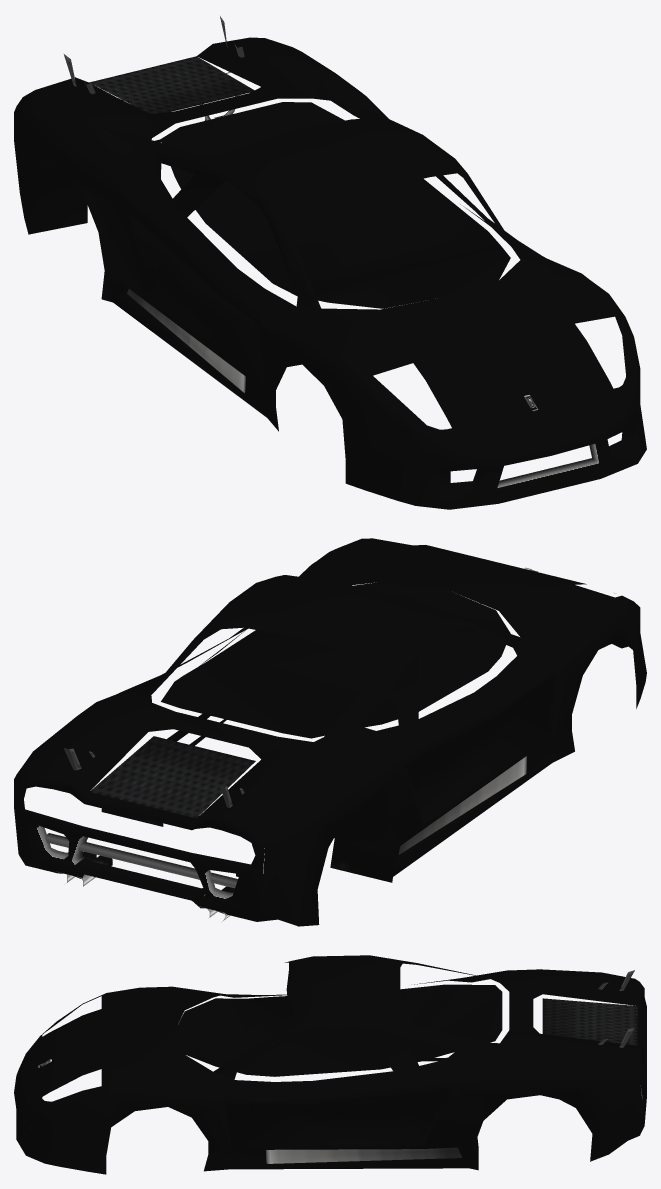
File: car-SUPR_Car14.glb
3 renders of one model, top to bottom at view 1: azimuth 30°, elevation 25°; view 2: azimuth 150°, elevation 25°; view 3: azimuth 270°, elevation 25°, orthographic. The views are drawn at different scales.
Parts seen in each view (by area): view 1: SUPR_Car14; view 2: SUPR_Car14; view 3: SUPR_Car14.
Part boxes in pixels (box(x1,y1,x2,y2)): SUPR_Car14: box(14, 16, 646, 509); SUPR_Car14: box(14, 538, 646, 926); SUPR_Car14: box(14, 955, 646, 1174).
Bounding box in the file's own units: 2.01 × 1.17 × 4.89.
Materials: 5 (5 with a texture image).
